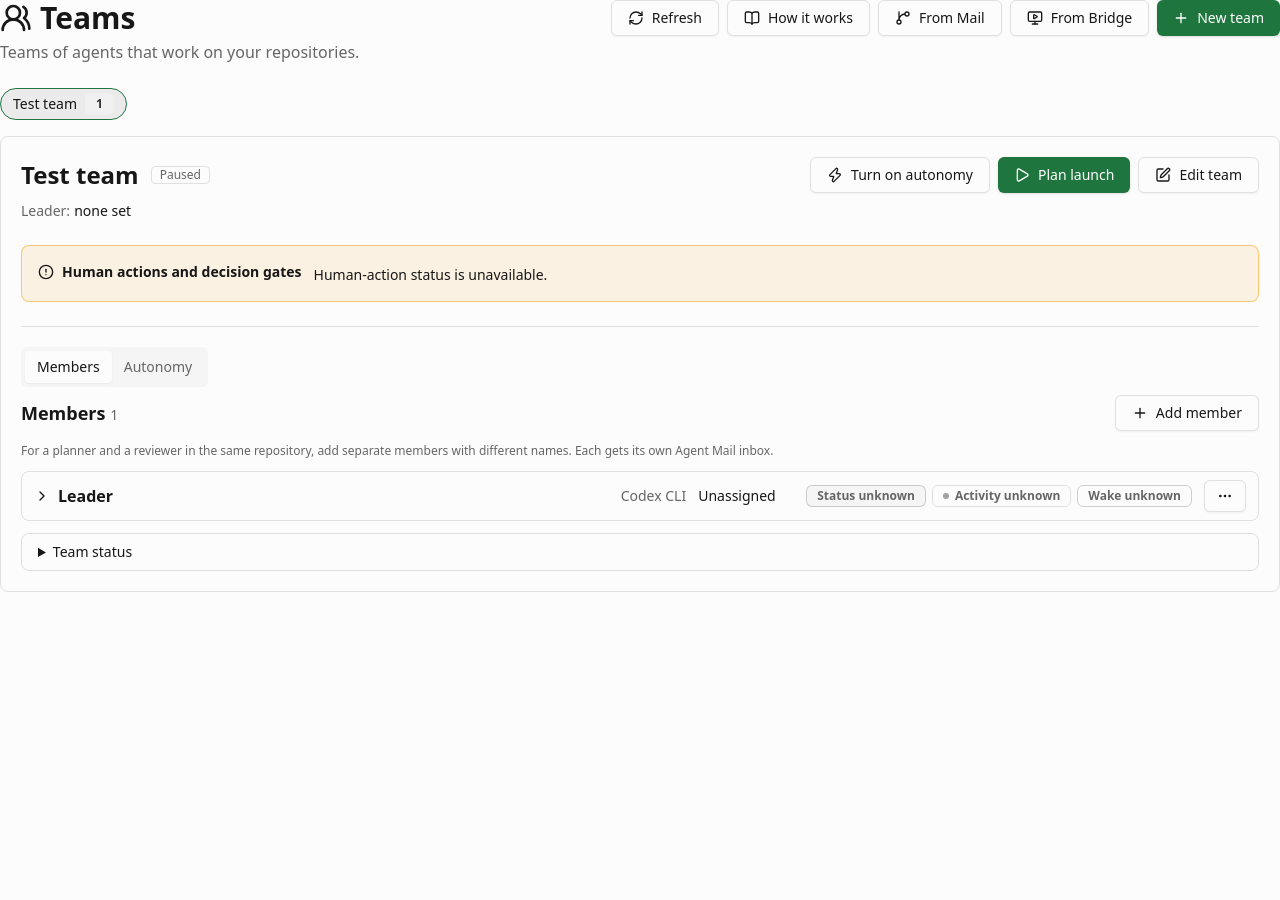
Test: AgentTeamsPage launch authorization › shows only the token dialog before the first plan request
Click the button "Plan launch" at x=1064, y=175, box [998,157,1130,193]
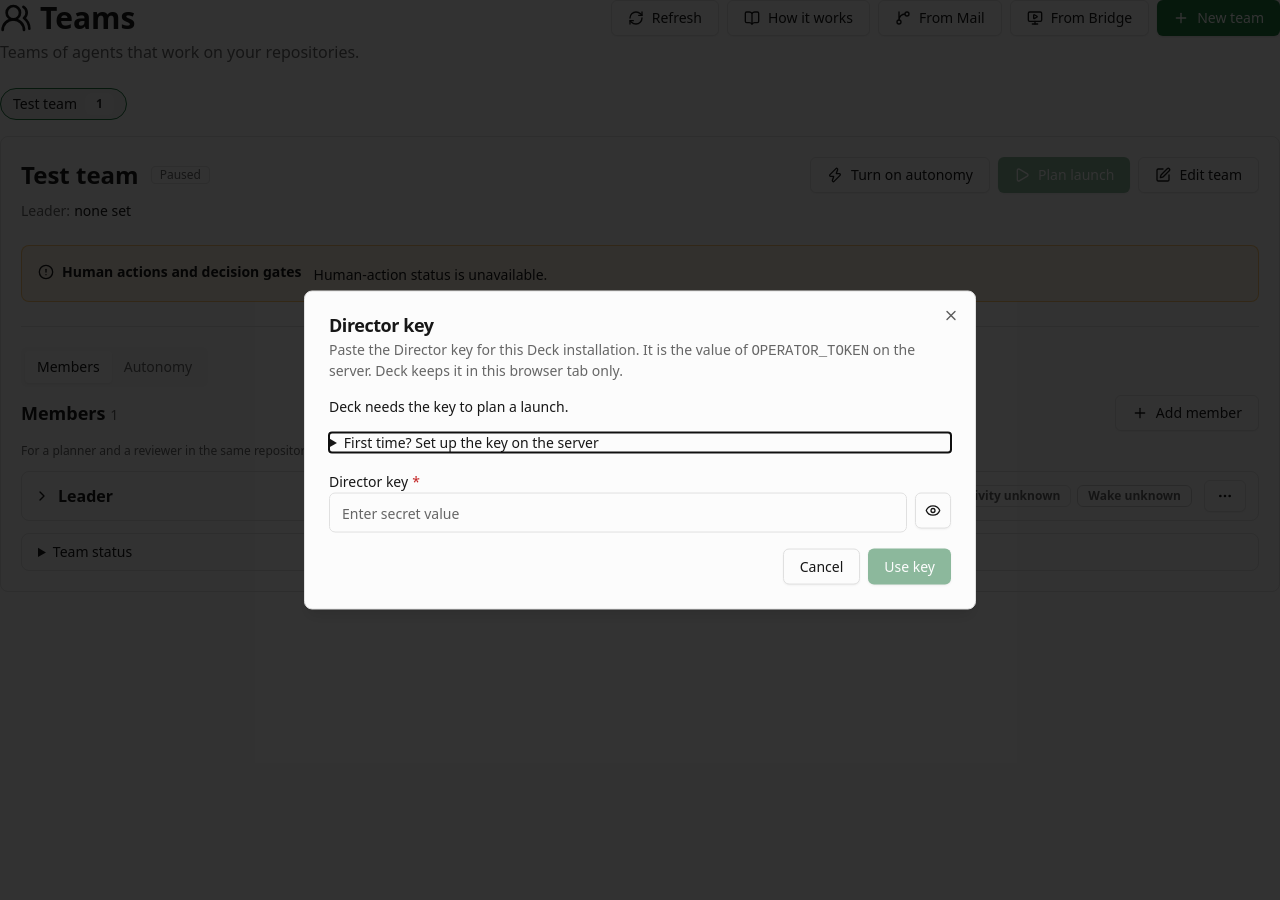
Expected: the dialog "Launch Plan" is not shown
Click the password field labelled "Director key*" at x=618, y=512, box [329,492,907,532]
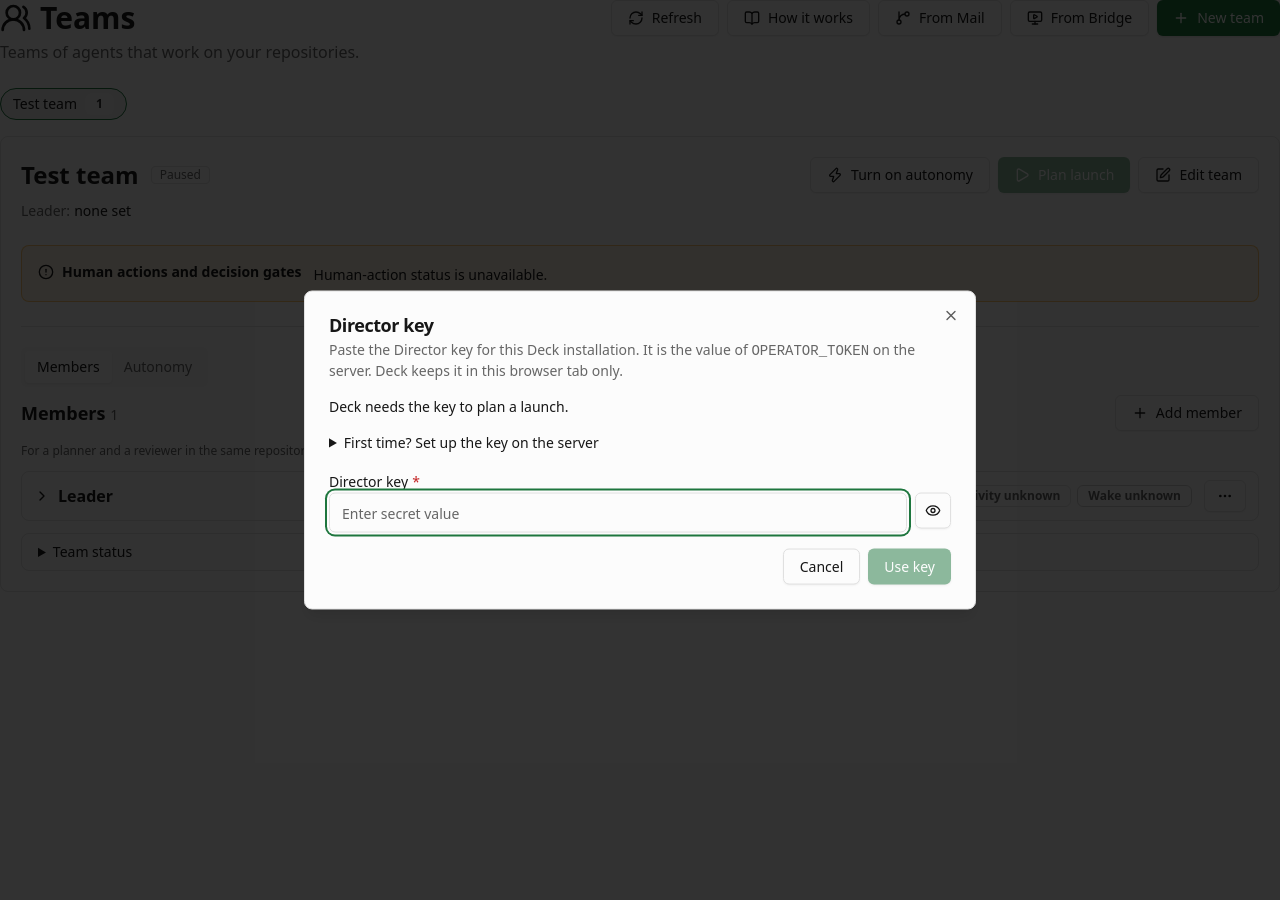
Type "test-token" into the password field labelled "Director key*" at x=618, y=512, box [329,492,907,532]
Then press Enter
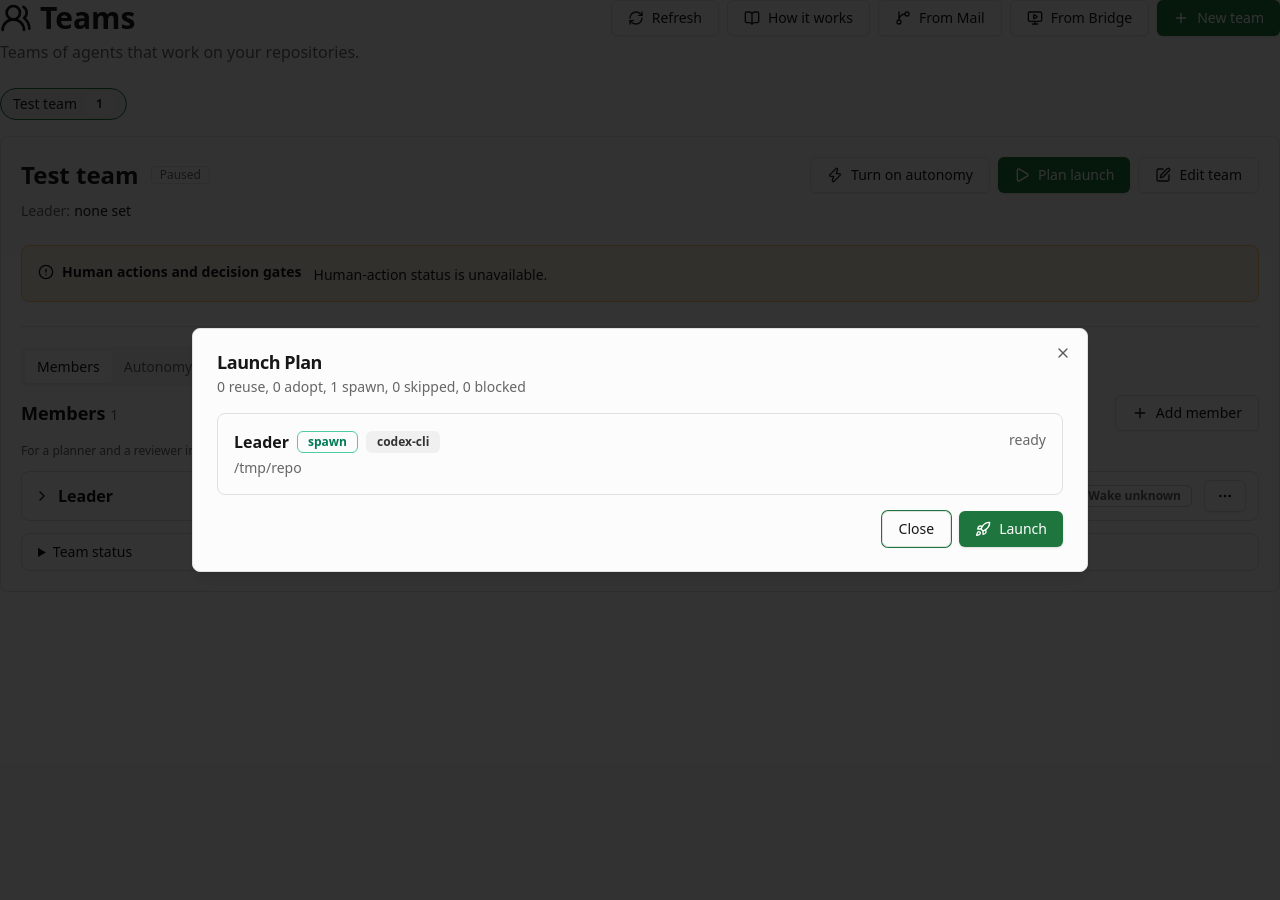
Expected: the dialog "Launch Plan" is shown, [192,328,1088,572]
Expected: the heading "Director key" is gone
